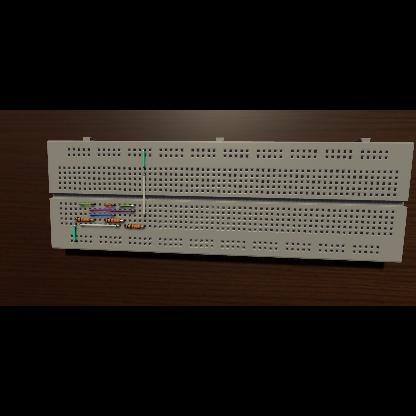breadboard: (48, 138, 414, 262)
resistor: (76, 218, 90, 222), (106, 219, 120, 223), (127, 225, 141, 229)
wire: (88, 209, 136, 212), (80, 223, 121, 226), (144, 174, 146, 216), (142, 150, 146, 170), (73, 224, 77, 242), (88, 214, 116, 216), (78, 203, 96, 205), (119, 205, 136, 207), (104, 204, 116, 206), (90, 219, 96, 221), (121, 220, 126, 222), (140, 225, 146, 226), (74, 219, 76, 221), (104, 219, 106, 221), (124, 225, 126, 226)
